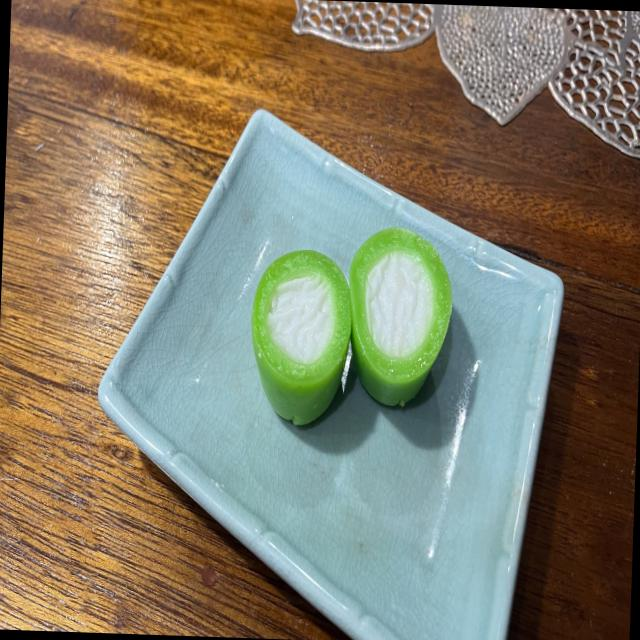nona-manis: (349, 227, 452, 405), (251, 250, 351, 424)
